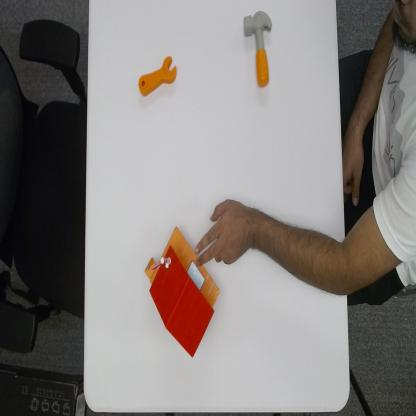Arm: (256, 202, 384, 299)
Hammer: (242, 9, 274, 89)
Hand: (194, 195, 256, 270)
House: (143, 223, 220, 360)
Screwdriver: (138, 53, 178, 100)
